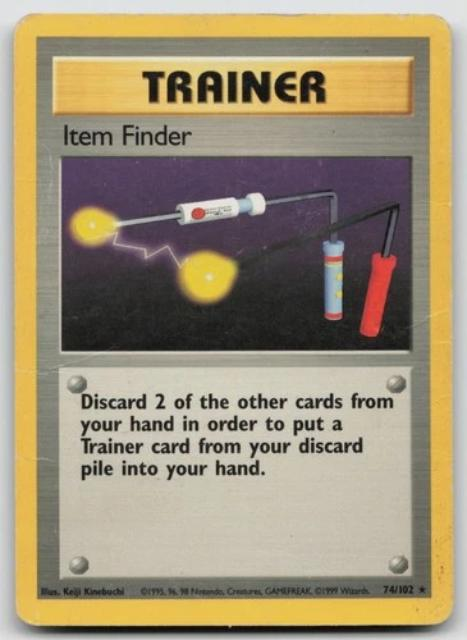Card: (5, 8, 460, 632)
Name: (54, 118, 199, 154)
